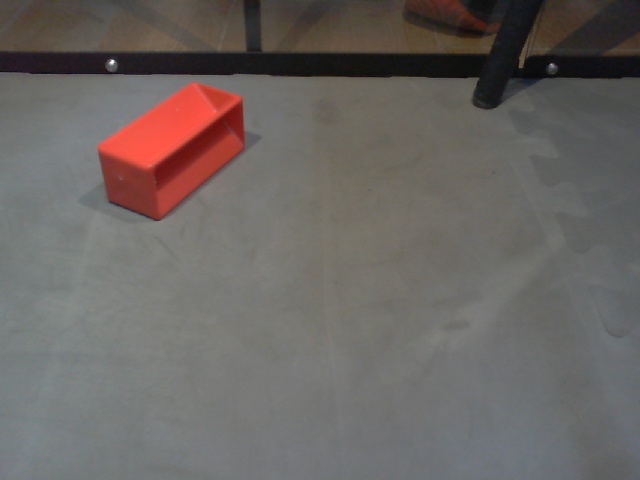RedSample: (92, 79, 247, 223)
